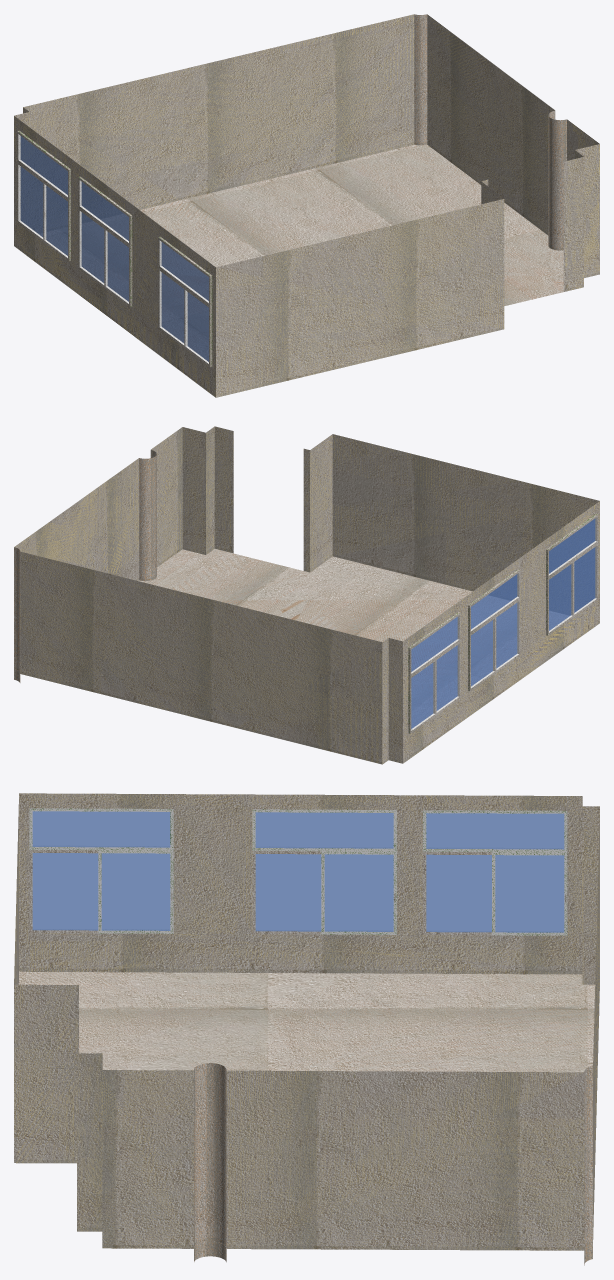
File: LAB032.obj
3 renders of one model, top to bottom at view 1: azimuth 30°, elevation 25°; view 2: azimuth 150°, elevation 25°; view 3: azimuth 270°, elevation 25°, orthographic. The views are drawn at different scales.
Parts seen in each view (by area): view 1: Mesh19 LAB032 Model, Mesh13 ventana1_1_3 LAB032 Model, Mesh1 ventana1_1_1 LAB032 Model, Mesh7 ventana1_1_2 LAB032 Model; view 2: Mesh19 LAB032 Model, Mesh13 ventana1_1_3 LAB032 Model, Mesh1 ventana1_1_1 LAB032 Model, Mesh7 ventana1_1_2 LAB032 Model; view 3: Mesh19 LAB032 Model, Mesh7 ventana1_1_2 LAB032 Model, Mesh1 ventana1_1_1 LAB032 Model, Mesh13 ventana1_1_3 LAB032 Model.
Part boxes in pixels (x1,y1,x2,y2): Mesh19 LAB032 Model: [14, 14, 599, 397]; Mesh13 ventana1_1_3 LAB032 Model: [78, 176, 132, 307]; Mesh1 ventana1_1_1 LAB032 Model: [158, 236, 212, 367]; Mesh7 ventana1_1_2 LAB032 Model: [17, 130, 70, 261]; Mesh19 LAB032 Model: [14, 426, 599, 764]; Mesh13 ventana1_1_3 LAB032 Model: [468, 569, 520, 691]; Mesh1 ventana1_1_1 LAB032 Model: [546, 513, 598, 635]; Mesh7 ventana1_1_2 LAB032 Model: [408, 612, 460, 733]; Mesh19 LAB032 Model: [14, 793, 599, 1265]; Mesh7 ventana1_1_2 LAB032 Model: [423, 810, 567, 935]; Mesh1 ventana1_1_1 LAB032 Model: [29, 808, 173, 933]; Mesh13 ventana1_1_3 LAB032 Model: [252, 809, 396, 934].
Bounding box in the file's own units: 10.11 × 3.25 × 8.93.
Materials: 8 (2 with a texture image).
